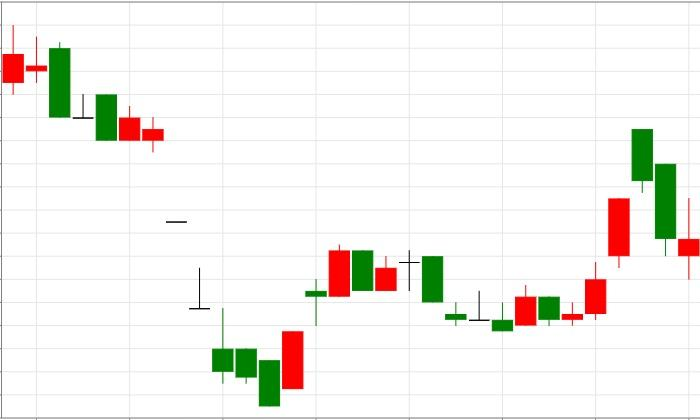inverse_hammer_rise: (48, 41, 234, 384)
